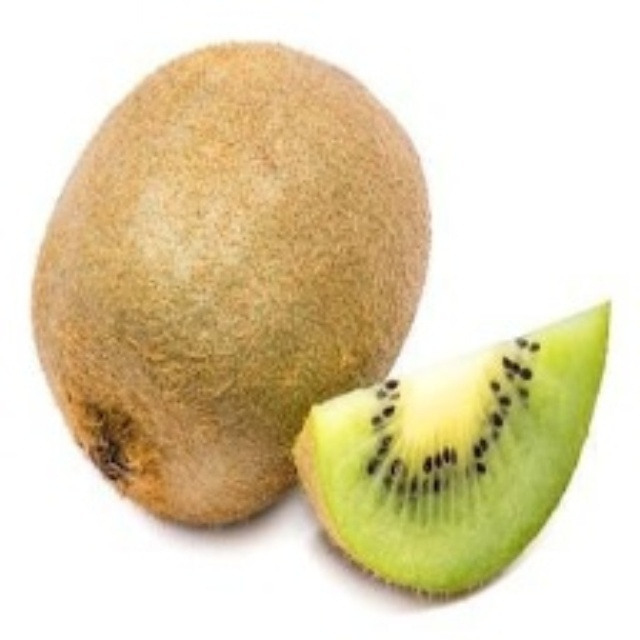kiwi: (29, 37, 432, 526), (288, 302, 622, 602)
